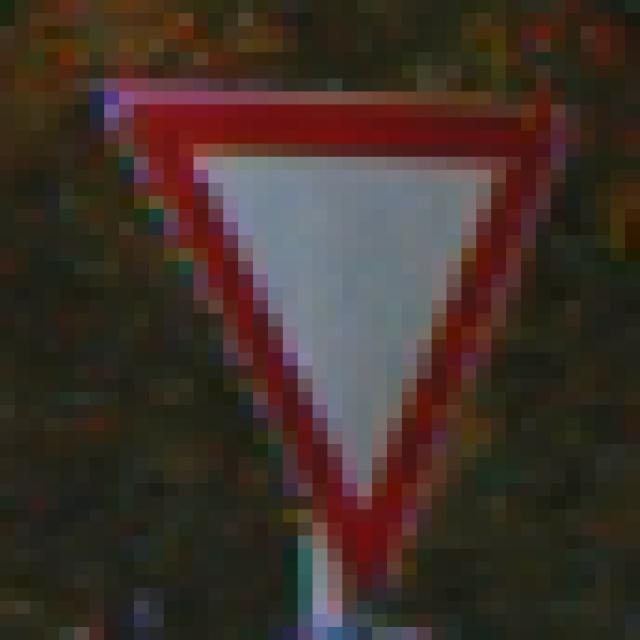Give Way: (90, 66, 552, 576)
